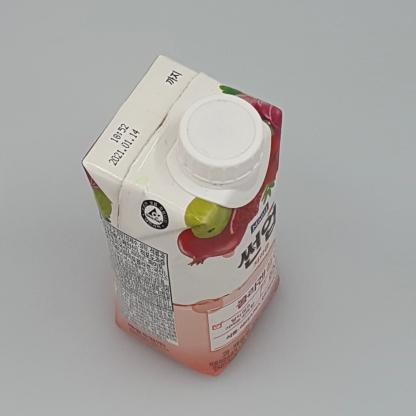--------------330ML: (81, 55, 282, 377)
